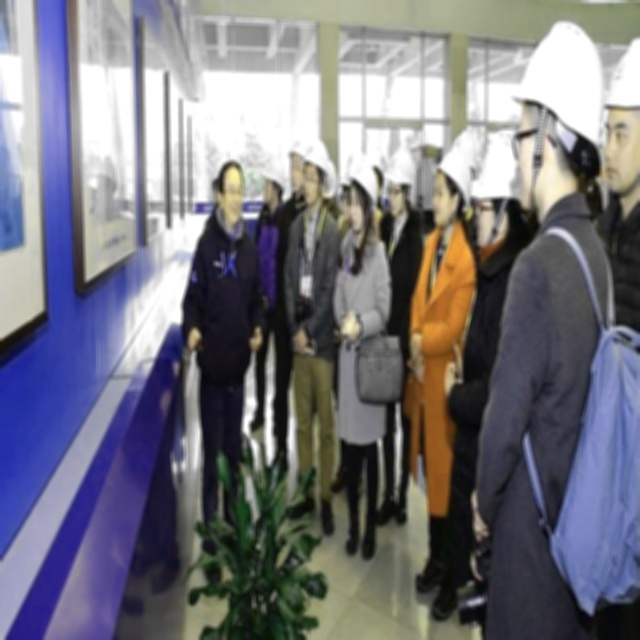Con_Casco: (430, 154, 470, 227), (344, 158, 376, 230)
Sin_Casco_Mascarrilla: (218, 160, 244, 225)
Sin_Chaleco: (191, 224, 259, 373)
